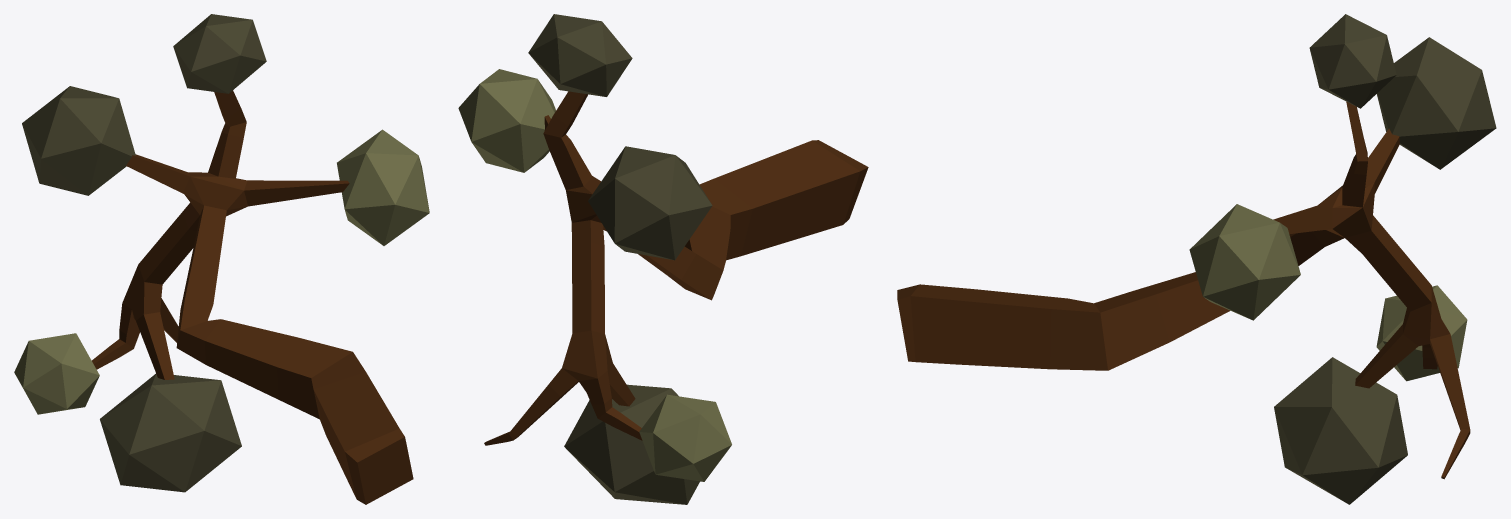
Rendered from DEDtree_1.fbx.
3 renders of one model, left to right at view 1: azimuth 30°, elevation 25°; view 2: azimuth 150°, elevation 25°; view 3: azimuth 270°, elevation 25°, orthographic. The views are drawn at different scales.
Parts seen in each view (by area): view 1: Cube, Icosphere.003, Icosphere.002, Icosphere, Icosphere.001, Icosphere.004; view 2: Cube, Icosphere.002, Icosphere.003, Icosphere, Icosphere.004, Icosphere.001; view 3: Cube, Icosphere.003, Icosphere.002, Icosphere, Icosphere.001, Icosphere.004.
Part boxes in pixels (box(x1,y1,x2,y2)): Cube: box(92, 90, 413, 504); Icosphere.003: box(100, 373, 241, 492); Icosphere.002: box(22, 86, 135, 195); Icosphere: box(337, 129, 429, 245); Icosphere.001: box(173, 14, 266, 93); Icosphere.004: box(14, 333, 99, 414); Cube: box(484, 91, 868, 445); Icosphere.002: box(588, 146, 712, 260); Icosphere.003: box(564, 384, 699, 504); Icosphere: box(458, 69, 555, 172); Icosphere.004: box(639, 394, 731, 481); Icosphere.001: box(528, 14, 632, 96); Cube: box(897, 101, 1470, 479); Icosphere.003: box(1274, 357, 1407, 504); Icosphere.002: box(1377, 37, 1496, 169); Icosphere: box(1189, 204, 1300, 320); Icosphere.001: box(1309, 14, 1396, 108); Icosphere.004: box(1376, 285, 1467, 381).
Size of the model in its own units: 709 by 927 by 1009.
